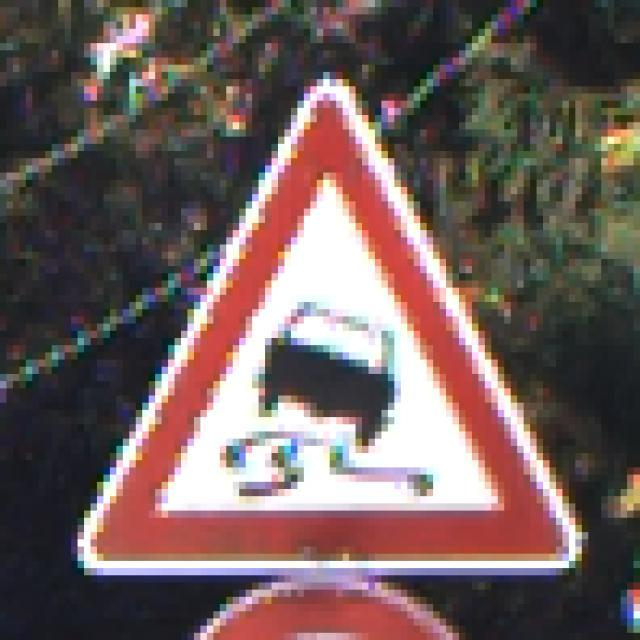slippery road: (79, 78, 583, 568)
